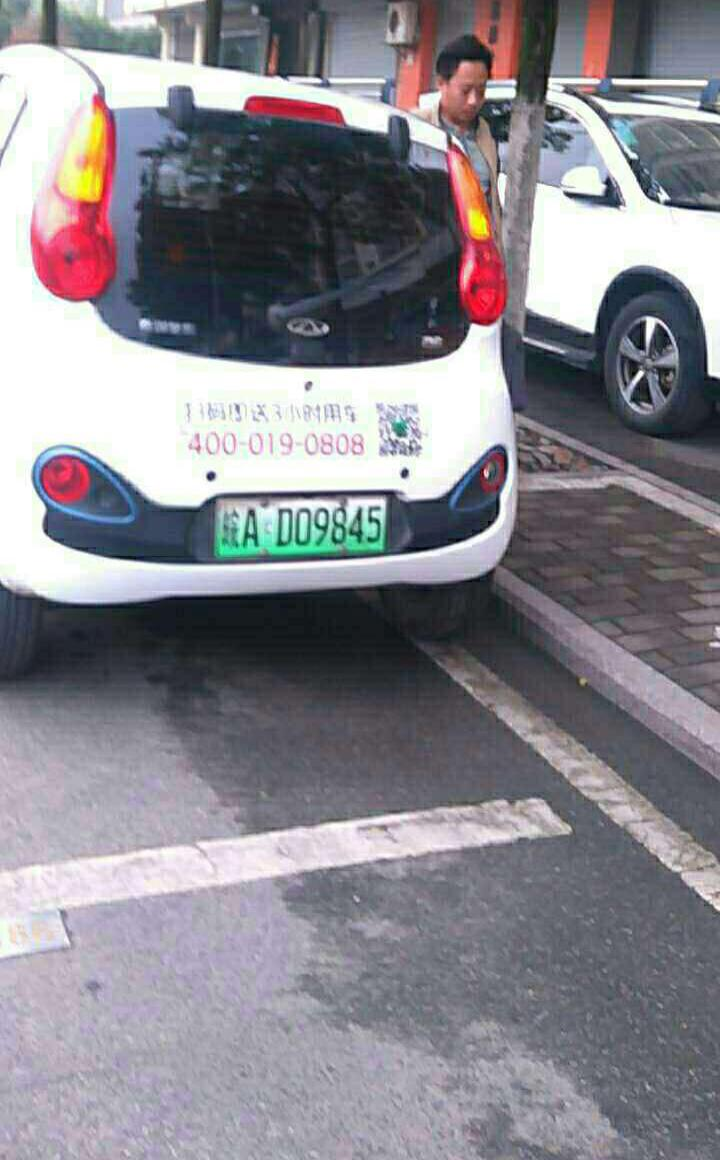car: (215, 494, 396, 554)
